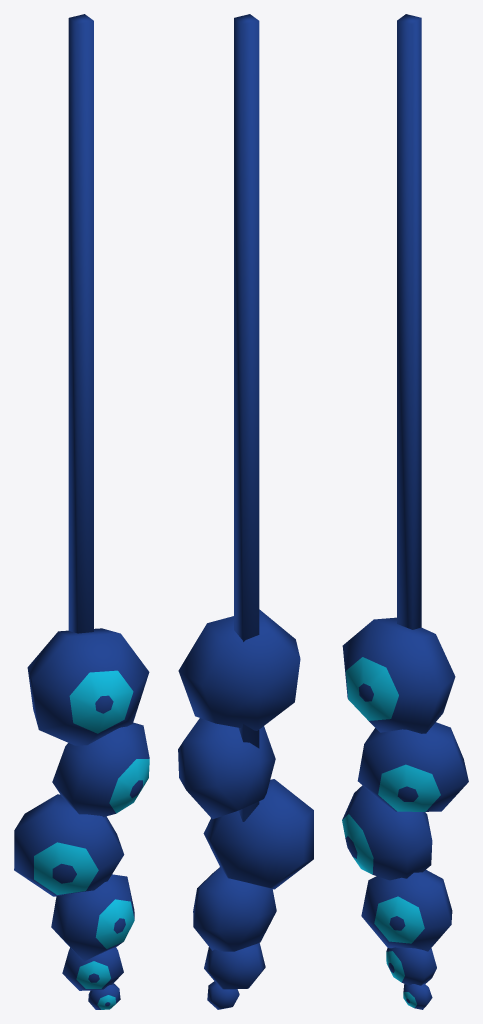
File: Prop_Lamps_05.fbx
3 renders of one model, left to right at view 1: azimuth 30°, elevation 25°; view 2: azimuth 210°, elevation 25°; view 3: azimuth 330°, elevation 25°, orthographic.
Visible parts, largest first — view 1: Cube.005; view 2: Cube.005; view 3: Cube.005.
Part boxes in pixels (x1,y1,x2,y2): Cube.005: (14,14,149,1009); Cube.005: (178,14,313,1009); Cube.005: (342,14,468,1009).
Bounding box in the file's own units: 0.9734 × 7.56 × 0.7649.
